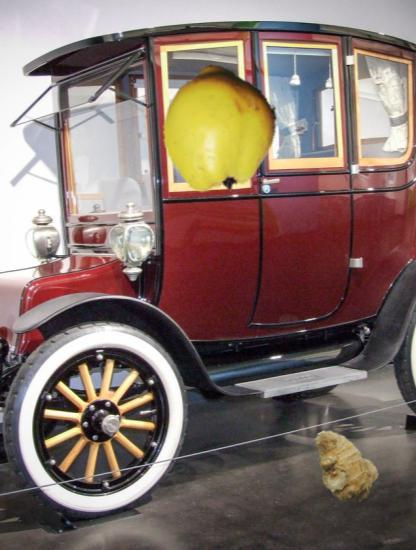Ginger: (304, 425, 385, 506)
Quince: (154, 62, 286, 194)
